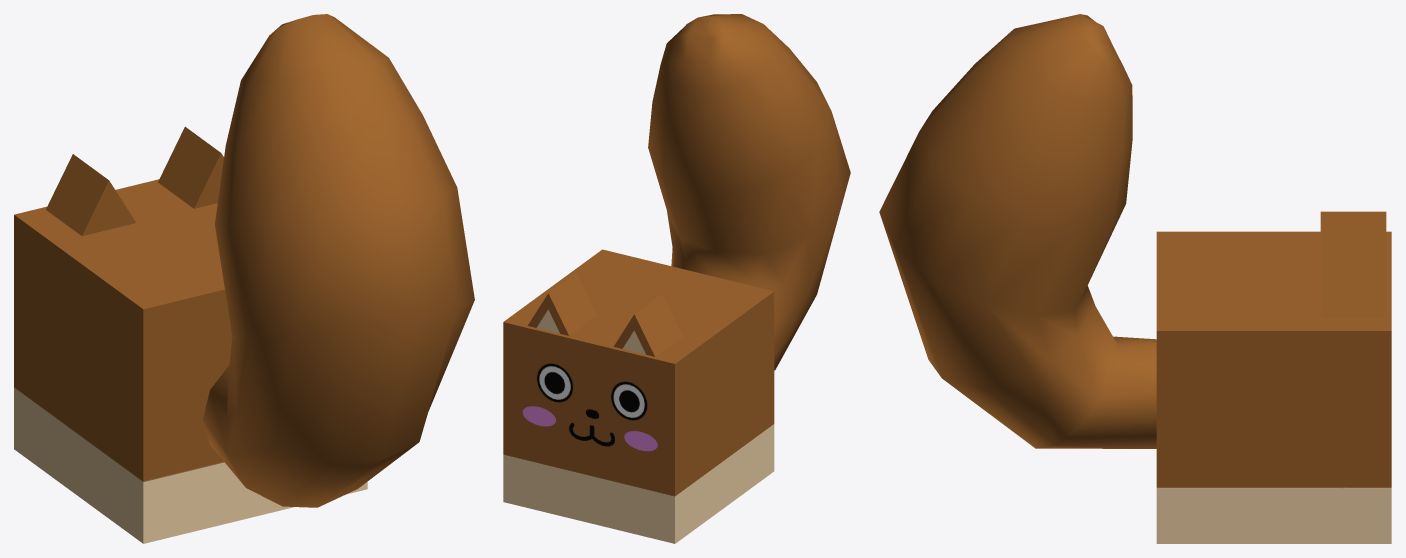
The model's file is Risu.fbx.
3 renders of one model, left to right at view 1: azimuth 30°, elevation 25°; view 2: azimuth 150°, elevation 25°; view 3: azimuth 270°, elevation 25°, orthographic. The views are drawn at different scales.
Parts seen in each view (by area): view 1: risu_Tail, risu_Head; view 2: risu_Head, risu_Tail; view 3: risu_Tail, risu_Head.
Part boxes in pixels (x1,y1,x2,y2): risu_Tail: (203,14,474,507); risu_Head: (14,126,367,543); risu_Head: (503,249,774,543); risu_Tail: (648,14,850,370); risu_Tail: (879,14,1156,448); risu_Head: (1156,211,1391,543).
Bounding box in the file's own units: 100 × 226 × 218.
